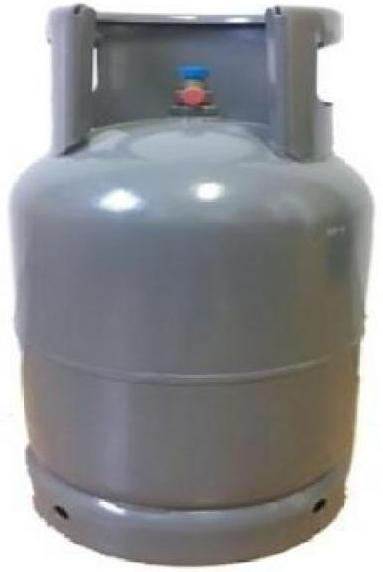cylinder: (1, 1, 383, 572)
